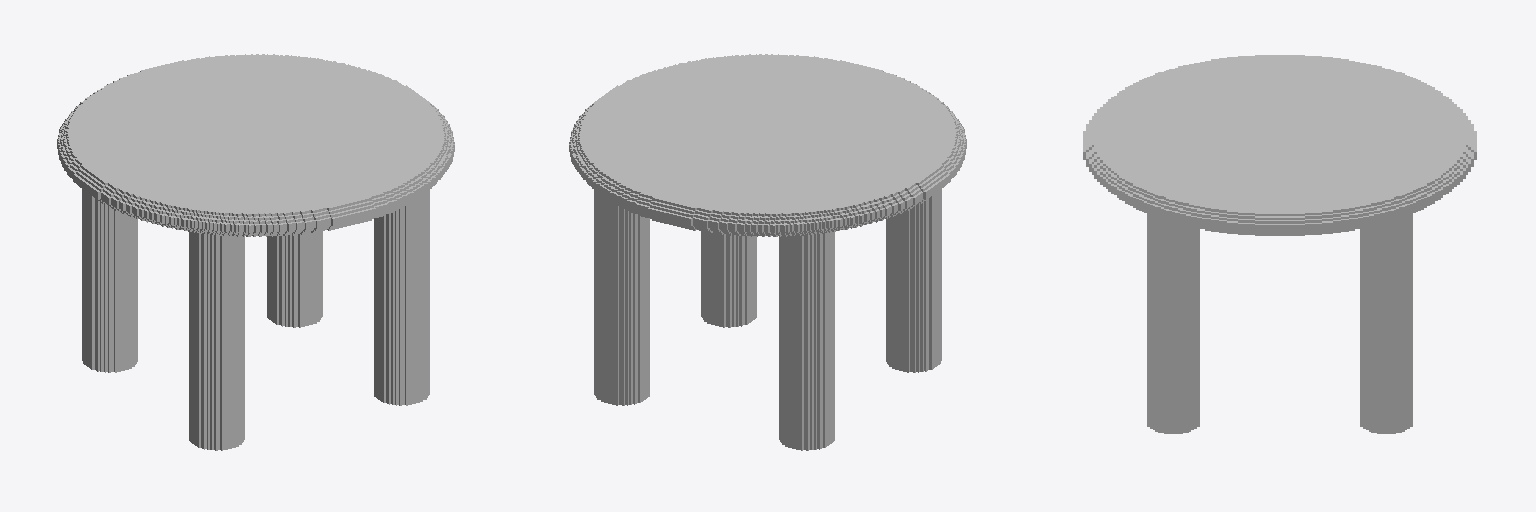
File: ffds.obj
3 renders of one model, left to right at view 1: azimuth 30°, elevation 25°; view 2: azimuth 150°, elevation 25°; view 3: azimuth 270°, elevation 25°, orthographic.
Parts seen in each view (by area): view 1: object 1; view 2: object 1; view 3: object 1.
Boxes of the visible parts, x1,y1,x2,y2 form: object 1: [57, 54, 454, 450]; object 1: [569, 54, 966, 450]; object 1: [1083, 55, 1476, 433].
Size of the model in its own units: 14.2 by 9.7 by 14.2.